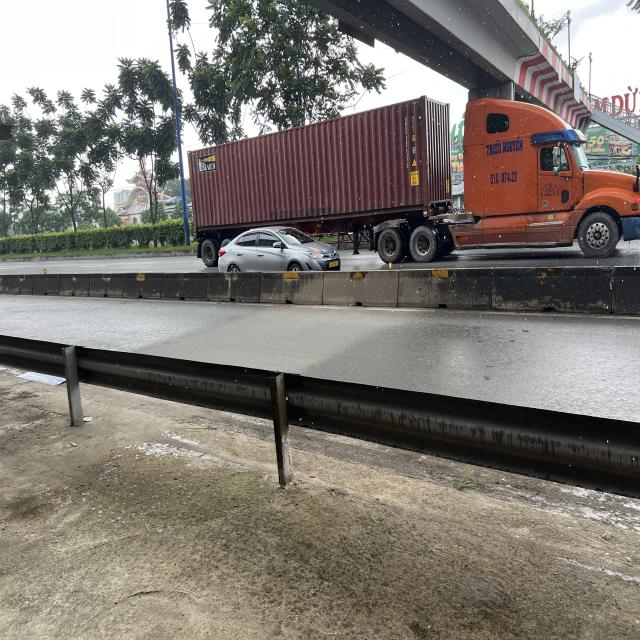car: (220, 226, 338, 272)
container: (186, 92, 640, 270)
